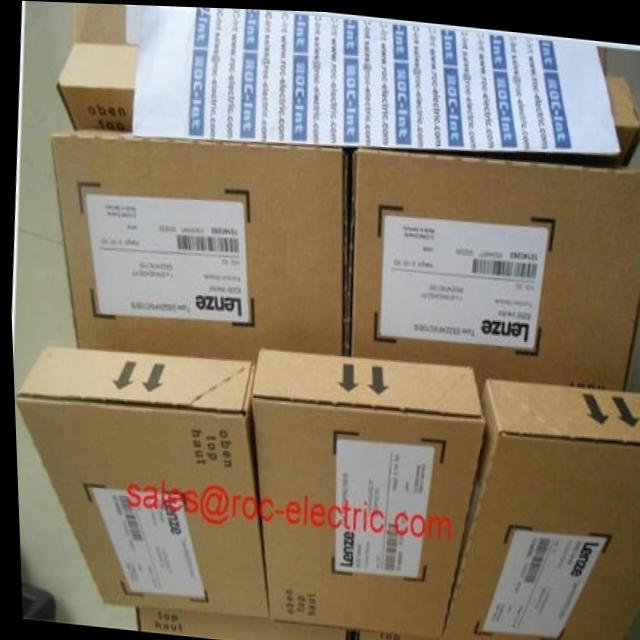box: (345, 146, 640, 392), (49, 128, 346, 360), (12, 344, 265, 616), (249, 345, 482, 633), (438, 376, 640, 640), (396, 69, 640, 161), (129, 606, 347, 640), (54, 40, 138, 127), (349, 628, 514, 640)
